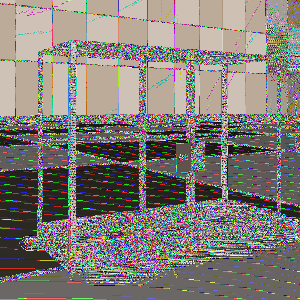Rack: (36, 37, 281, 277)
